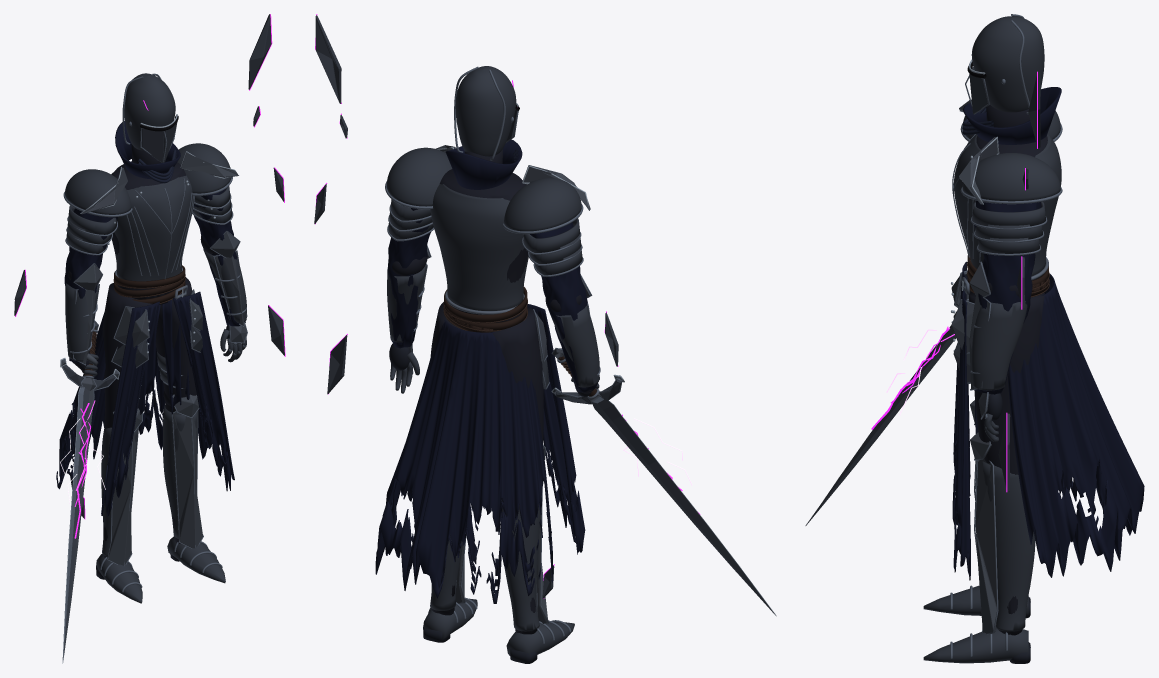
Rendered from darkSword.glb.
3 views of the same model, side by side, from view 1: azimuth 30°, elevation 25°; view 2: azimuth 150°, elevation 25°; view 3: azimuth 270°, elevation 25° (orthographic). The views are drawn at different scales.
Parts seen in each view (by area): view 1: torso, legR, legL, head, armR, armL, weapon, shards; view 2: torso, legL, head, armR, armL, weapon, legR, shards; view 3: torso, legR, armR, head, weapon, shards, legL.
Boxes of the visible parts, x1,y1,x2,y2 form: torso: [56, 121, 238, 517]; legR: [155, 277, 225, 583]; legL: [96, 283, 152, 603]; head: [122, 73, 178, 164]; armR: [193, 189, 247, 362]; armL: [64, 208, 117, 376]; weapon: [60, 320, 119, 663]; shards: [14, 14, 285, 519]; torso: [375, 139, 590, 603]; legL: [489, 307, 574, 663]; head: [454, 66, 519, 163]; armR: [387, 205, 431, 393]; armL: [530, 222, 600, 396]; weapon: [551, 348, 776, 616]; legR: [423, 302, 477, 642]; shards: [314, 14, 692, 598]; torso: [951, 87, 1144, 580]; legR: [923, 292, 1044, 663]; armR: [969, 200, 1041, 441]; head: [965, 14, 1044, 127]; weapon: [805, 325, 955, 525]; shards: [886, 71, 1040, 492]; legL: [923, 290, 1030, 618].
Size of the model in its own units: 2.01 by 3.21 by 1.53.
